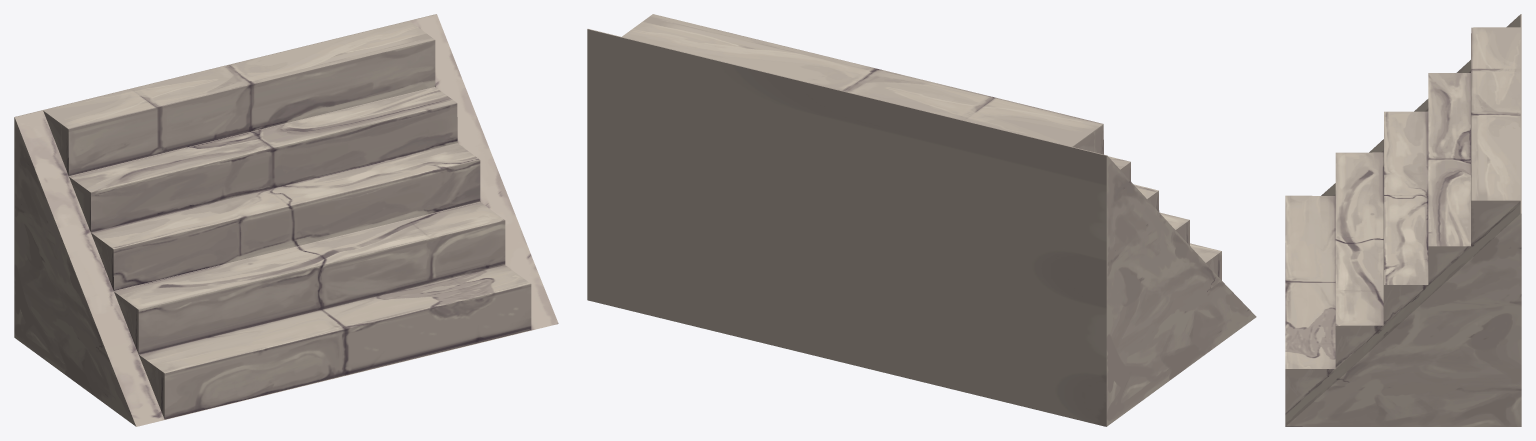
File: trap 1 inc texture.fbx
3 renders of one model, left to right at view 1: azimuth 30°, elevation 25°; view 2: azimuth 150°, elevation 25°; view 3: azimuth 270°, elevation 25°, orthographic. The views are drawn at different scales.
Parts seen in each view (by area): view 1: pasted__pCube1; view 2: pasted__pCube1; view 3: pasted__pCube1.
Part boxes in pixels (<box>): pasted__pCube1: <box>14,14,558,426</box>; pasted__pCube1: <box>587,14,1256,426</box>; pasted__pCube1: <box>1285,14,1521,426</box>.
Bounding box in the file's own units: 2 × 0.9954 × 1.
1 material, 1 textured.
